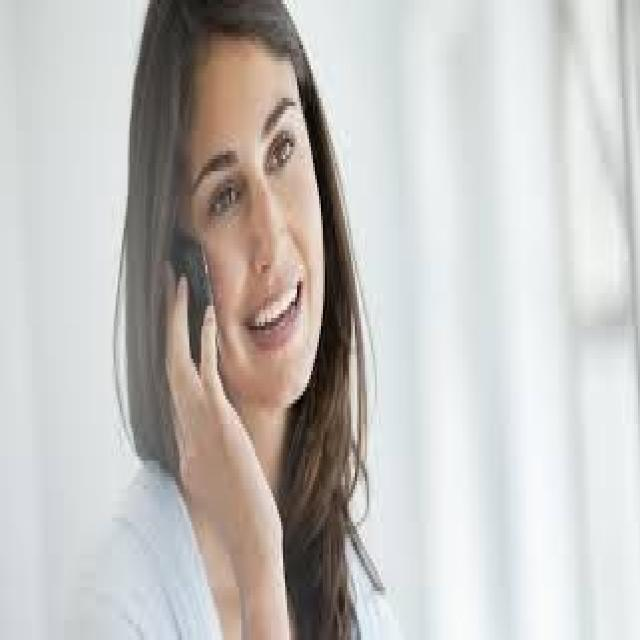phone: (166, 224, 218, 352)
